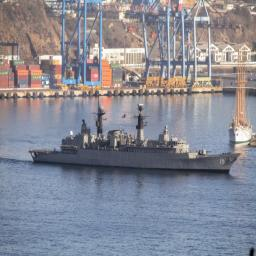Fragata: (27, 100, 243, 175)
